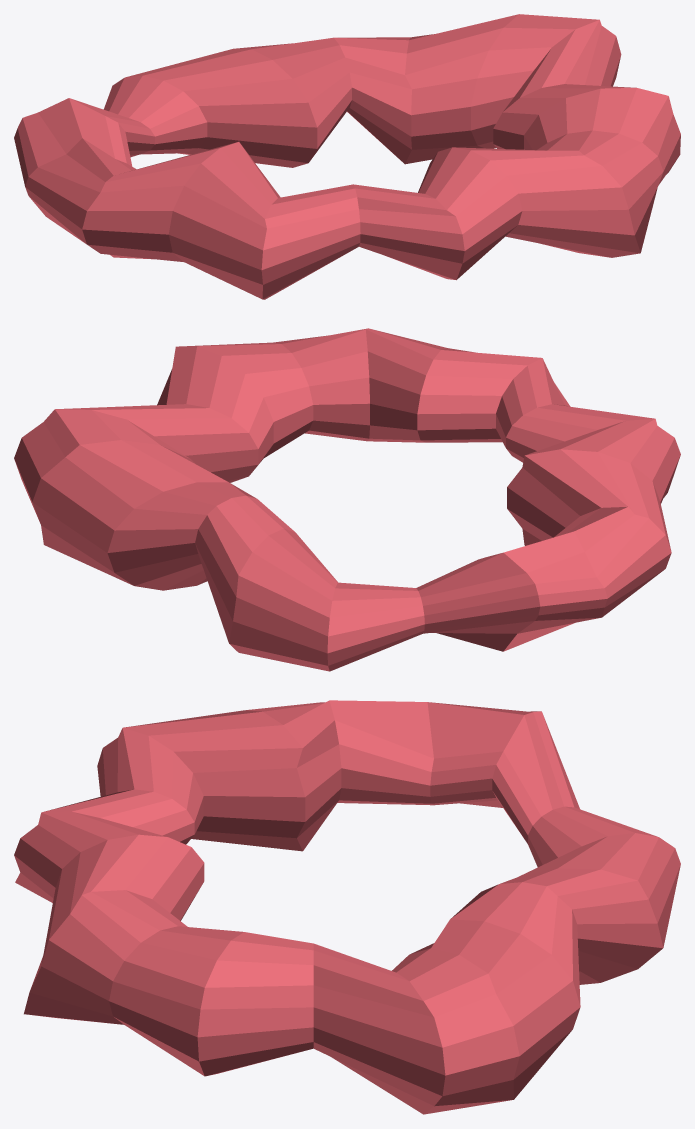
The model's file is HairTie.fbx.
The picture shows the model from 3 angles, top to bottom: view 1: azimuth 30°, elevation 25°; view 2: azimuth 150°, elevation 25°; view 3: azimuth 270°, elevation 25°; orthographic projection. The views are drawn at different scales.
Visible parts, largest first — view 1: Torus; view 2: Torus; view 3: Torus.
Boxes of the visible parts, <box> form: Torus: <box>14,14,680,299</box>; Torus: <box>14,328,680,671</box>; Torus: <box>14,700,680,1114</box>.
Bounding box in the file's own units: 192 × 43.92 × 160.
